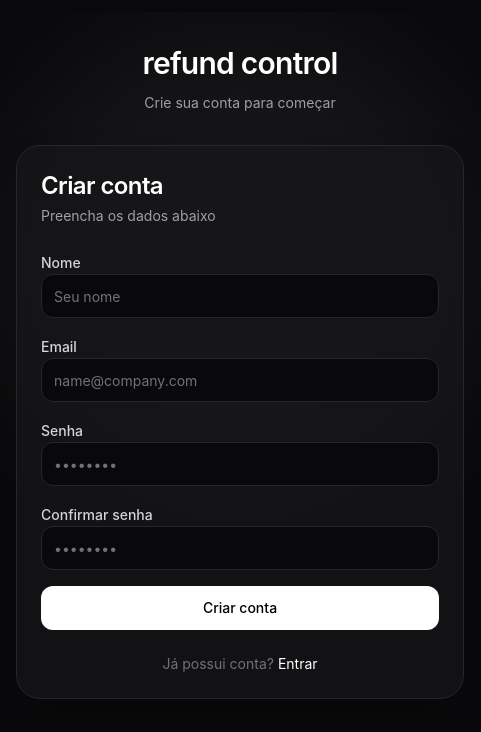
Test: SignupForm - submissão com sucesso › deve cadastrar usuário com dados válidos
Type "João" into the field with placeholder "Seu nome" at (240, 296), box [41,274,439,318]
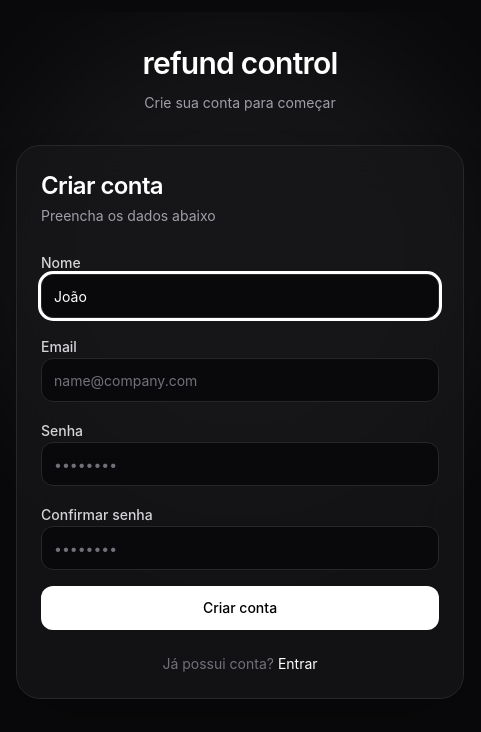
Type "joao@email.com" into the field with placeholder "name@company.com" at (240, 380), box [41,358,439,402]
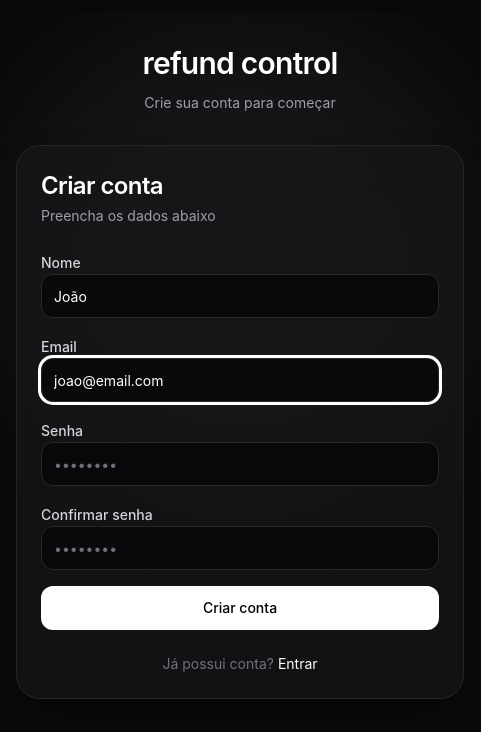
Type "senha123" into the 1st password field with placeholder "••••••••" at (240, 464), box [41,442,439,486]
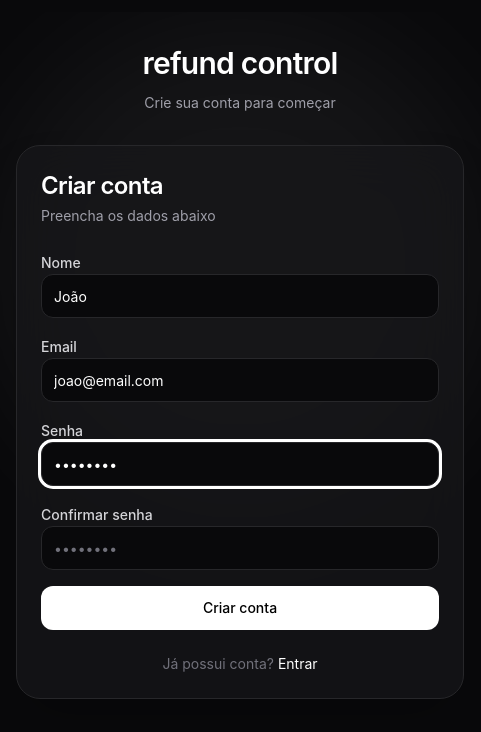
Type "senha123" into the password field with placeholder "••••••••" at (240, 548), box [41,526,439,570]
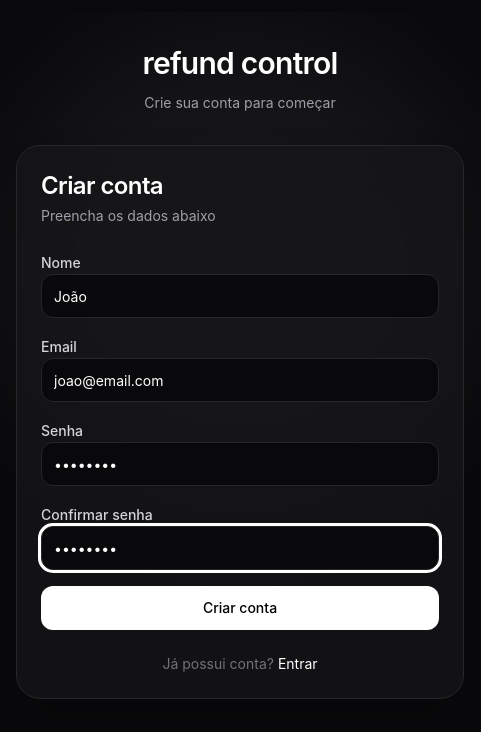
Click the button "Criar conta" at (240, 608), box [41,586,439,630]
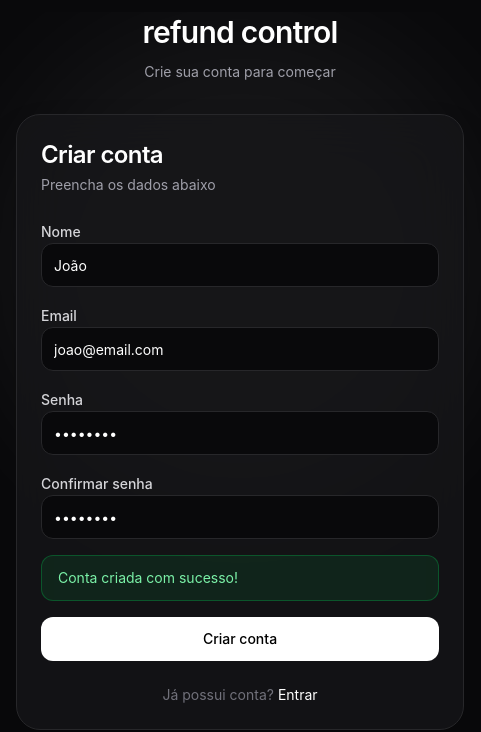
Check: the text "Conta criada com sucesso!" is shown, box [41,555,439,601]
